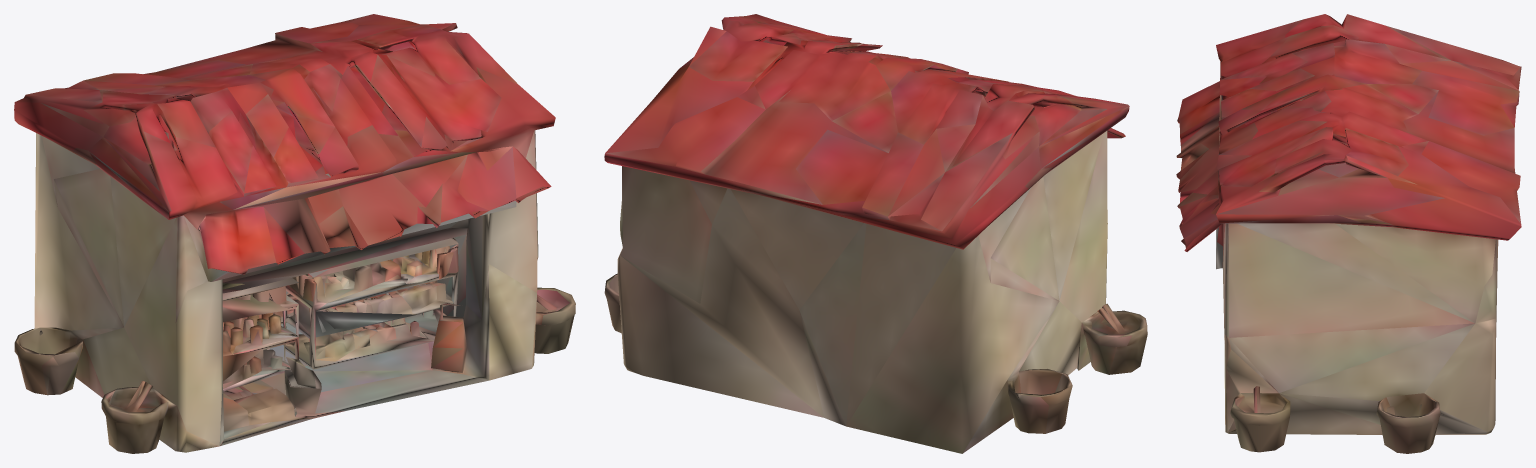
Rendered from provision_store.glb.
The picture shows the model from 3 angles, left to right: view 1: azimuth 30°, elevation 25°; view 2: azimuth 150°, elevation 25°; view 3: azimuth 270°, elevation 25°; orthographic projection. The views are drawn at different scales.
Size of the model in its own units: 1.9 by 1.15 by 1.33.
Materials: 1 (1 with a texture image).
